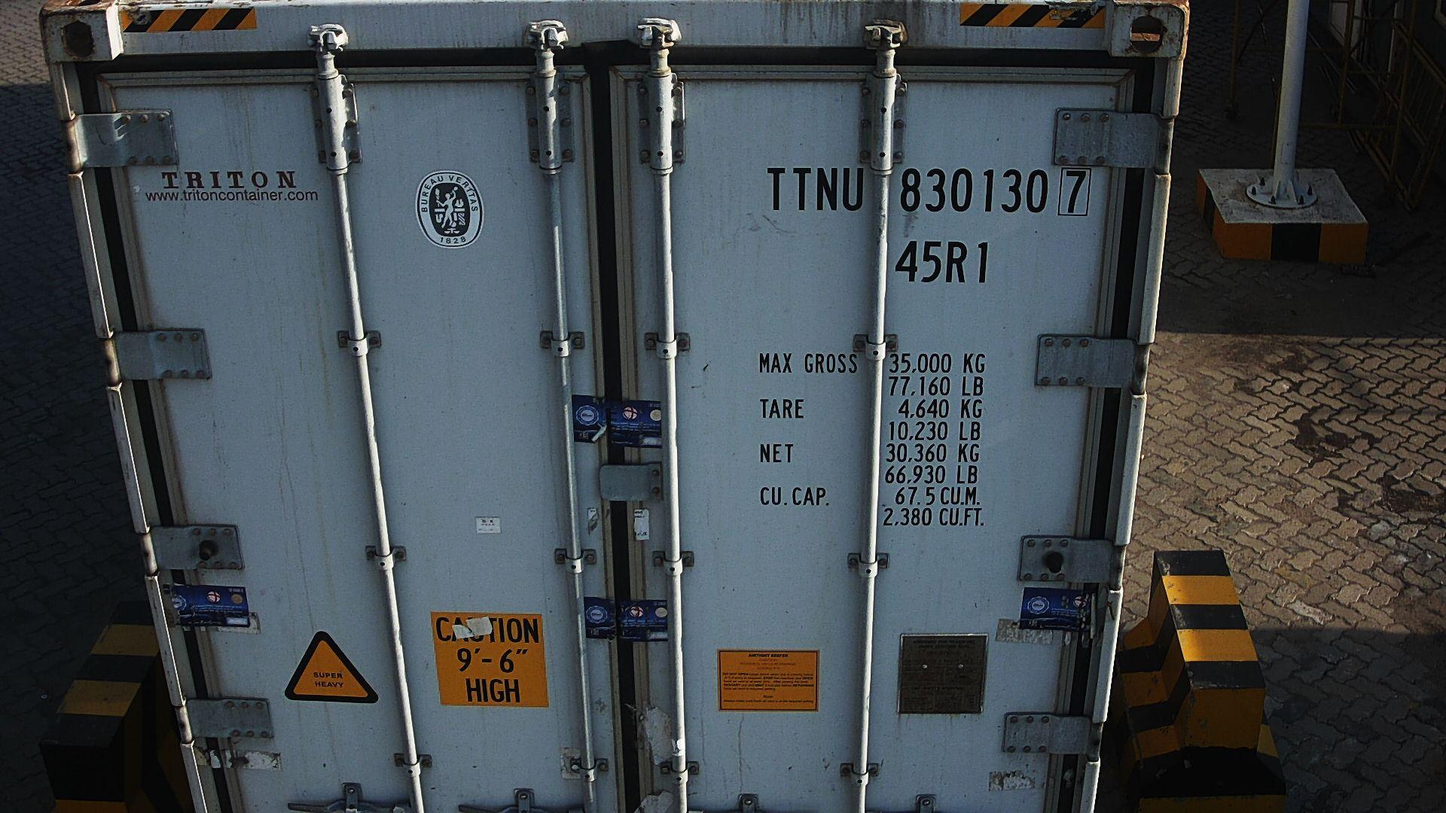container-numbers: (761, 162, 1091, 222), (891, 237, 996, 289)
